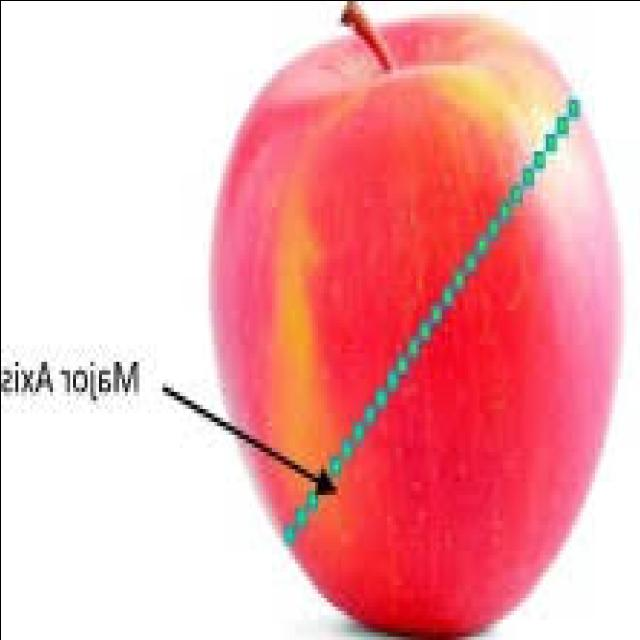apple: (200, 0, 635, 629)
